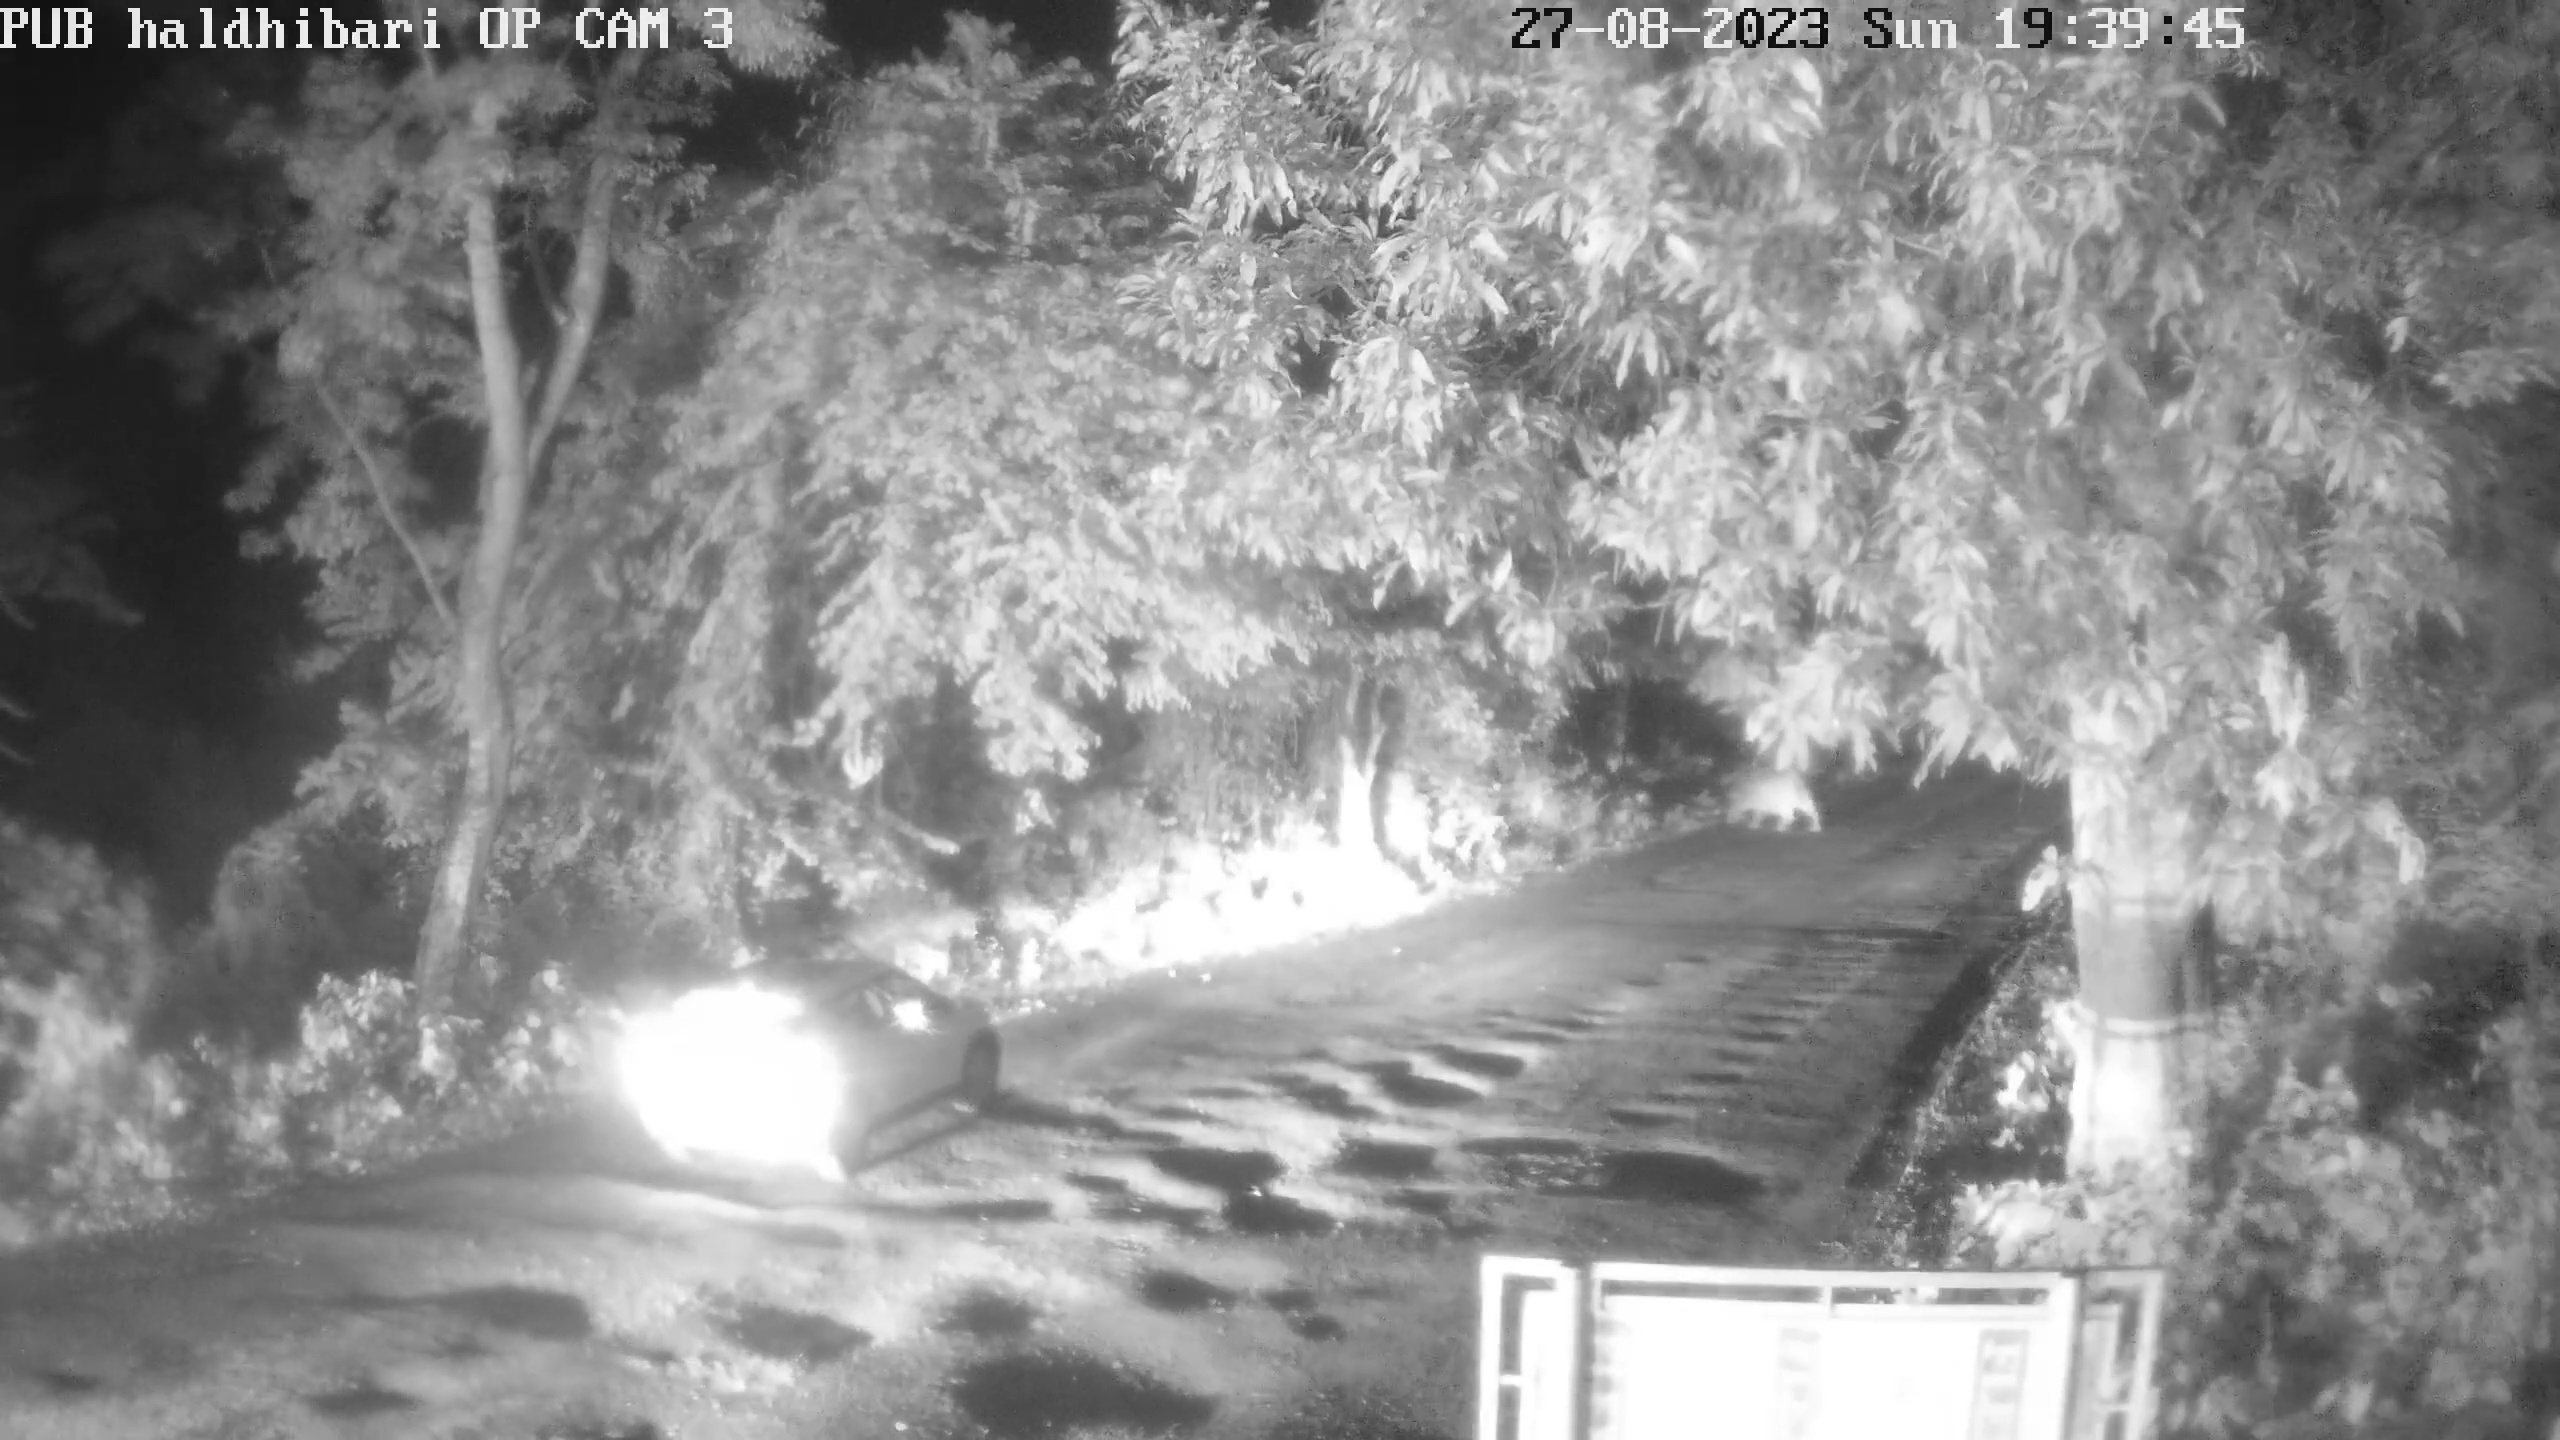rhinos: (1704, 770, 1823, 839)
